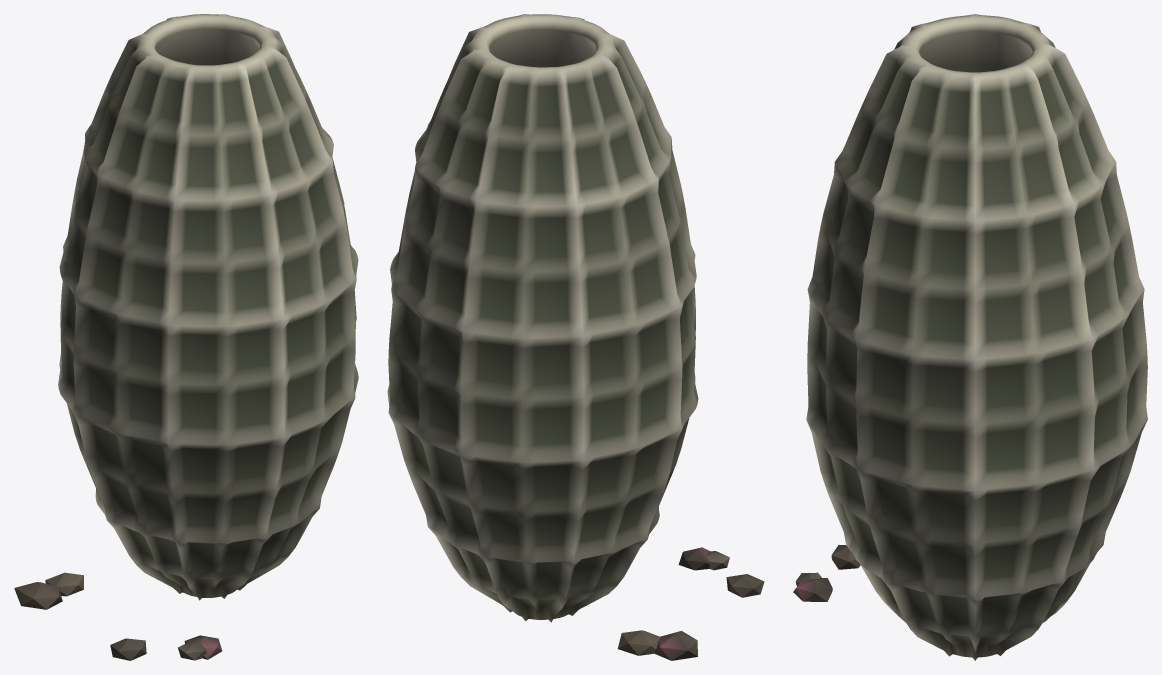
Rendered from ProtospongiaFenestrata.fbx.
3 renders of one model, left to right at view 1: azimuth 30°, elevation 25°; view 2: azimuth 150°, elevation 25°; view 3: azimuth 270°, elevation 25°, orthographic. The views are drawn at different scales.
Visible parts, largest first — view 1: ProtospongiaFenestrata; view 2: ProtospongiaFenestrata; view 3: ProtospongiaFenestrata.
Boxes of the visible parts, bbox=[...] form: ProtospongiaFenestrata: bbox=[14, 14, 358, 660]; ProtospongiaFenestrata: bbox=[387, 14, 764, 660]; ProtospongiaFenestrata: bbox=[793, 14, 1147, 660].
Bounding box in the file's own units: 0.8595 × 1.48 × 0.7959.
